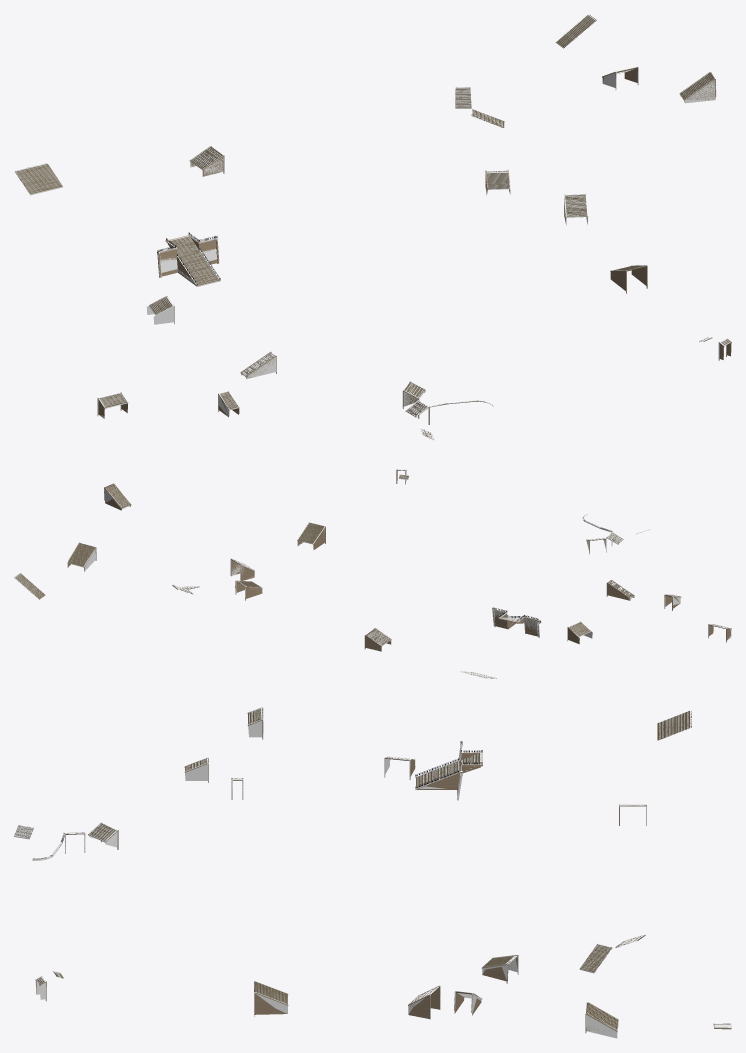
The model's file is objects_un_c01step01.gltf.
3 views of the same model, one above another, from view 1: azimuth 30°, elevation 25°; view 2: azimuth 150°, elevation 25°; view 3: azimuth 270°, elevation 25° (orthographic). The views are drawn at different scales.
Parts seen in each view (by area): view 1: um_objects_un_c01step01_model_lod0Shape:objects_un_c01step01 (×3), um_objects_un_c01step01_model_lod2Shape:objects_un_c01step01, um_objects_un_c01step01_model_lod1Shape:objects_un_c01step01 (×2); view 2: um_objects_un_c01step01_model_lod0Shape:objects_un_c01step01 (×3), um_objects_un_c01step01_model_lod2Shape:objects_un_c01step01, um_objects_un_c01step01_model_lod1Shape:objects_un_c01step01 (×2), nomerge_wall_model_shape:objects_un_c01step01_04_bld; view 3: um_objects_un_c01step01_model_lod0Shape:objects_un_c01step01 (×2), um_objects_un_c01step01_model_lod2Shape:objects_un_c01step01, um_objects_un_c01step01_model_lod1Shape:objects_un_c01step01 (×2).
Boxes of the visible parts, box(x1,y1,x2,y2) form: um_objects_un_c01step01_model_lod0Shape:objects_un_c01step01 (×3): box(14, 14, 731, 439); um_objects_un_c01step01_model_lod2Shape:objects_un_c01step01: box(15, 15, 729, 439); um_objects_un_c01step01_model_lod1Shape:objects_un_c01step01 (×2): box(97, 15, 731, 424); um_objects_un_c01step01_model_lod0Shape:objects_un_c01step01 (×3): box(14, 469, 731, 678); um_objects_un_c01step01_model_lod2Shape:objects_un_c01step01: box(15, 475, 721, 677); um_objects_un_c01step01_model_lod1Shape:objects_un_c01step01 (×2): box(16, 469, 731, 651); nomerge_wall_model_shape:objects_un_c01step01_04_bld: box(494, 612, 539, 636); um_objects_un_c01step01_model_lod0Shape:objects_un_c01step01 (×2): box(14, 707, 731, 1038); um_objects_un_c01step01_model_lod2Shape:objects_un_c01step01: box(29, 708, 689, 1030); um_objects_un_c01step01_model_lod1Shape:objects_un_c01step01 (×2): box(33, 711, 730, 1032).
Size of what is drawn, in the model's own units: 342 by 47.04 by 278.
7 materials, 6 textured.
